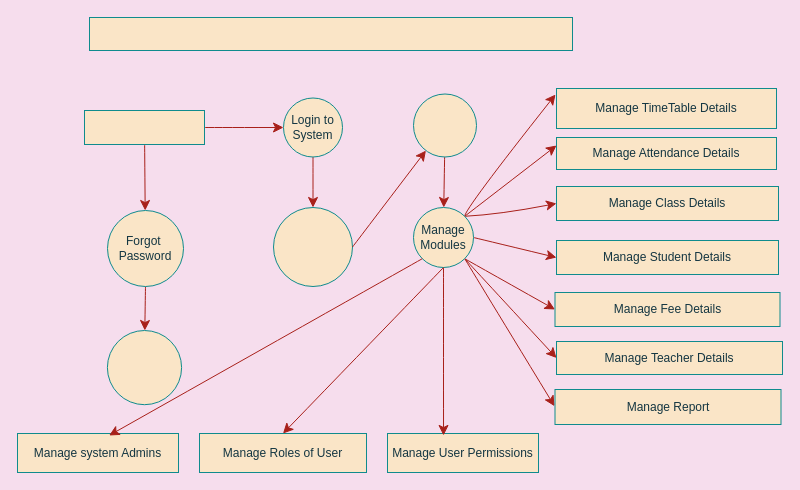
Some shapes in this 800 by 490 pixel diagram are drawn without their labels. Here are the shapes that lost their labels. From the top down, the centre of each, then its label:
At (x=330, y=33): "Student Information System".
At (x=144, y=127): "Admin".
At (x=444, y=125): "Check Roles of Access".
At (x=312, y=246): "Check Credentials".
At (x=144, y=367): "Send Email to User".
